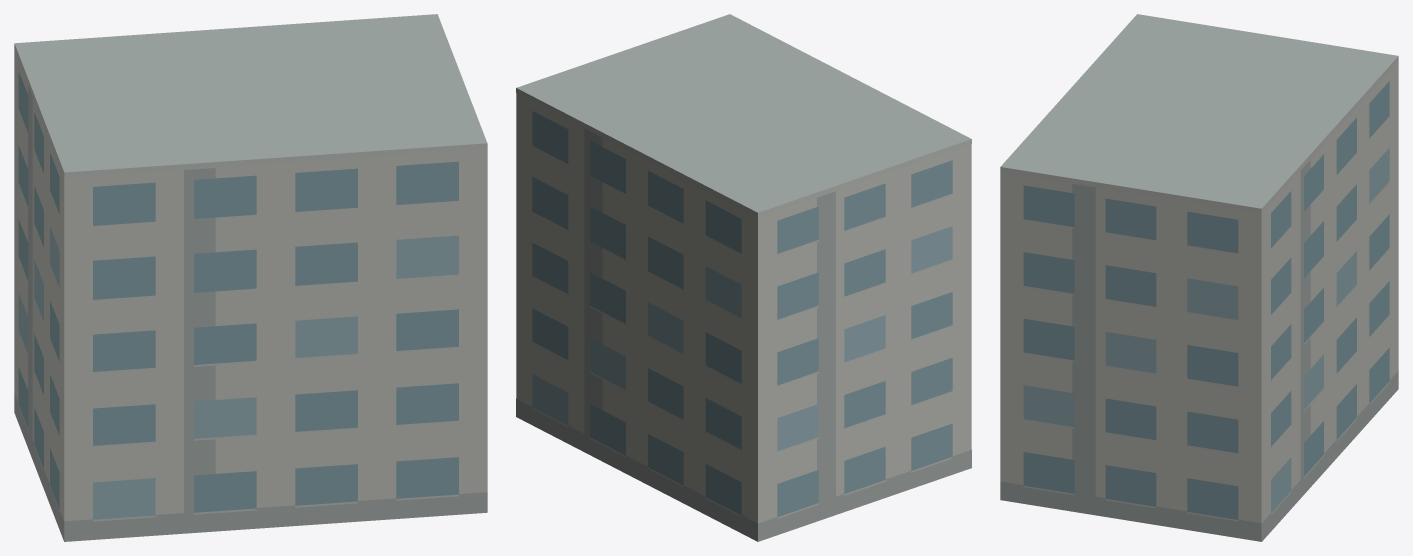
Rendered from residential-fbfc51bf-9d16-4ba7-ae7a-9f46c7639677.glb.
The picture shows the model from 3 angles, left to right: view 1: azimuth 30°, elevation 25°; view 2: azimuth 150°, elevation 25°; view 3: azimuth 270°, elevation 25°; orthographic projection. The views are drawn at different scales.
Visible parts, largest first — view 1: residential-fbfc51bf-9d16-4ba7-ae7a-9f46c7639677.tmp; view 2: residential-fbfc51bf-9d16-4ba7-ae7a-9f46c7639677.tmp; view 3: residential-fbfc51bf-9d16-4ba7-ae7a-9f46c7639677.tmp.
Boxes of the visible parts, x1,y1,x2,y2 form: residential-fbfc51bf-9d16-4ba7-ae7a-9f46c7639677.tmp: (14, 14, 487, 541); residential-fbfc51bf-9d16-4ba7-ae7a-9f46c7639677.tmp: (516, 14, 971, 541); residential-fbfc51bf-9d16-4ba7-ae7a-9f46c7639677.tmp: (1000, 14, 1398, 541).
Bounding box in the file's own units: 19.12 × 15.25 × 16.53.
